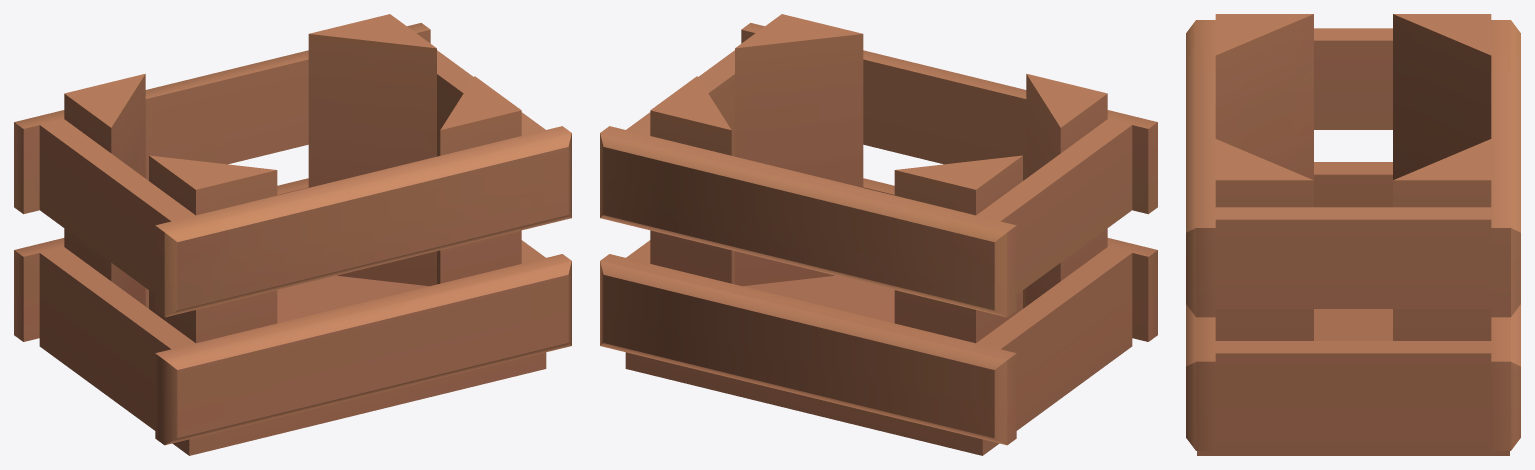
The model's file is food_crate_small_empty.glb.
The picture shows the model from 3 angles, left to right: view 1: azimuth 30°, elevation 25°; view 2: azimuth 150°, elevation 25°; view 3: azimuth 270°, elevation 25°; orthographic projection. The views are drawn at different scales.
Parts seen in each view (by area): view 1: Food_Crate_Small_Empty; view 2: Food_Crate_Small_Empty; view 3: Food_Crate_Small_Empty.
Part boxes in pixels (x1,y1,x2,y2): Food_Crate_Small_Empty: (14, 14, 571, 455); Food_Crate_Small_Empty: (600, 14, 1157, 455); Food_Crate_Small_Empty: (1186, 14, 1520, 455).
Bounding box in the file's own units: 0.5546 × 0.3328 × 0.3772.
1 material, 1 textured.
